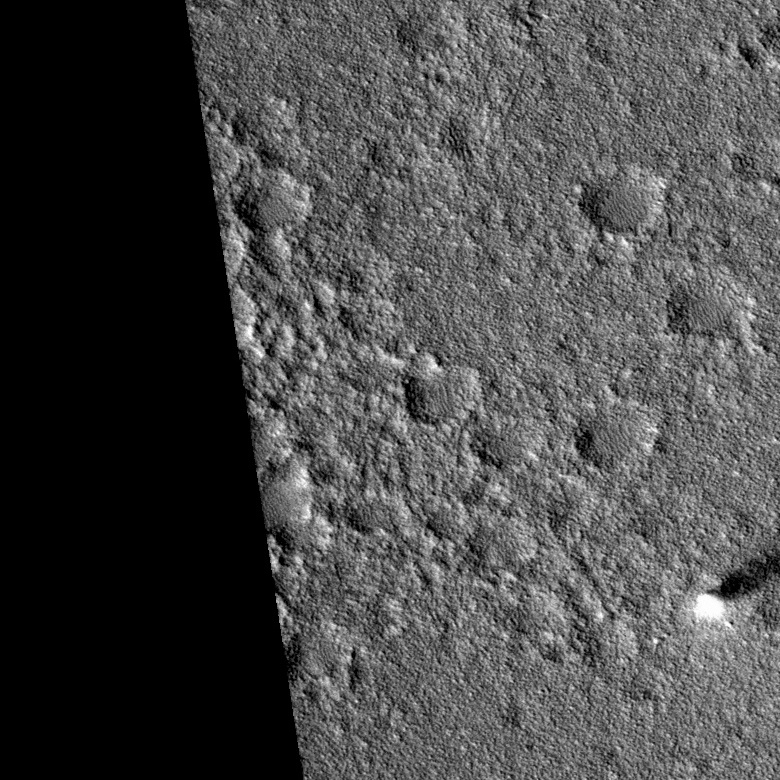dust_devil: (689, 548, 780, 626)
